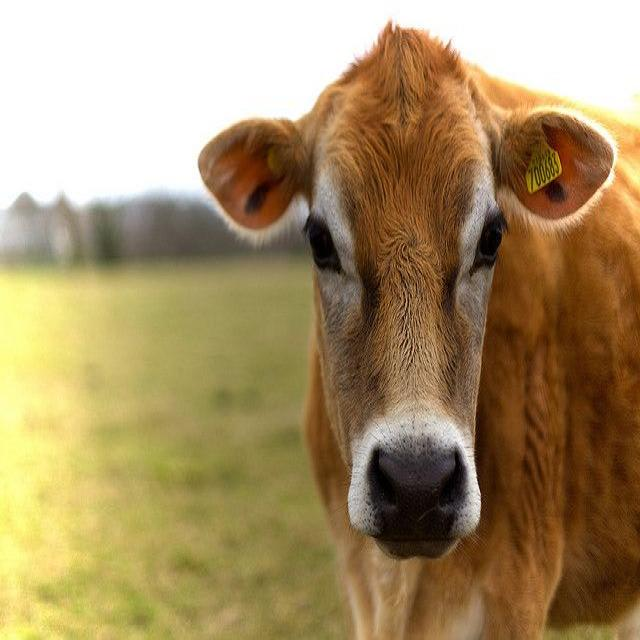cowFace: (187, 22, 612, 566)
